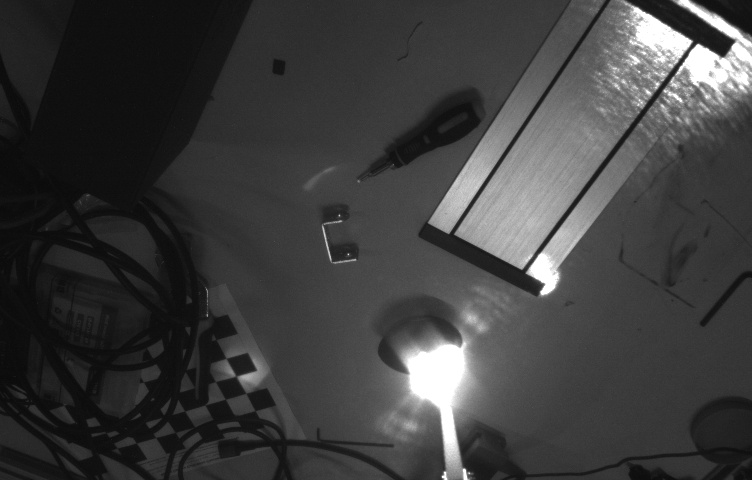Object toy football - Material foam - Color blue - Pdfname VT1ffZoLOnKv: (416, 338, 461, 386)
